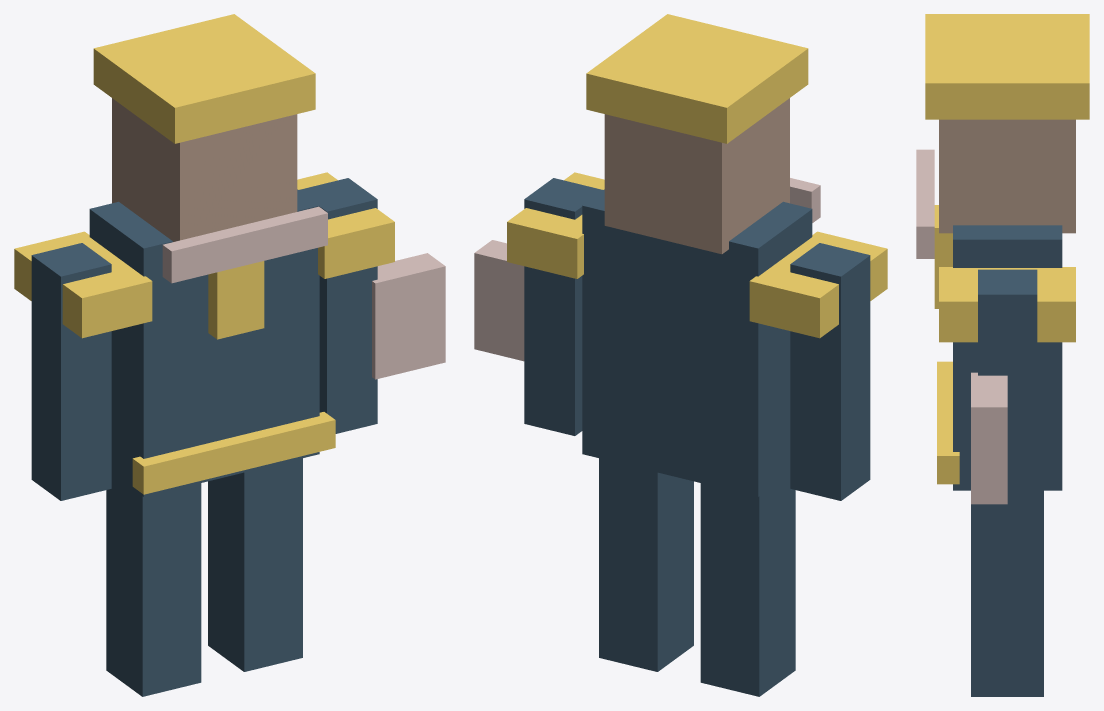
File: 06_kiva_runeclasp_operator_from_geometry.glb
3 views of the same model, side by side, from view 1: azimuth 30°, elevation 25°; view 2: azimuth 150°, elevation 25°; view 3: azimuth 270°, elevation 25° (orthographic).
Visible parts, largest first — view 1: Kiva Runeclasp, Operator from Geometry; view 2: Kiva Runeclasp, Operator from Geometry; view 3: Kiva Runeclasp, Operator from Geometry.
Part boxes in pixels (bbox=[...]): Kiva Runeclasp, Operator from Geometry: bbox=[14, 14, 445, 696]; Kiva Runeclasp, Operator from Geometry: bbox=[474, 14, 887, 696]; Kiva Runeclasp, Operator from Geometry: bbox=[916, 14, 1089, 696].
Size of the model in its own units: 1.02 by 1.54 by 0.398.
